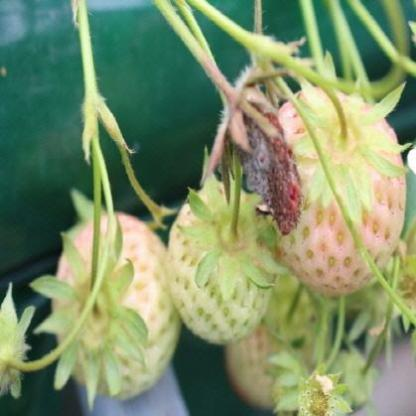Strawberry_Gray_Mold: (200, 64, 304, 237)
